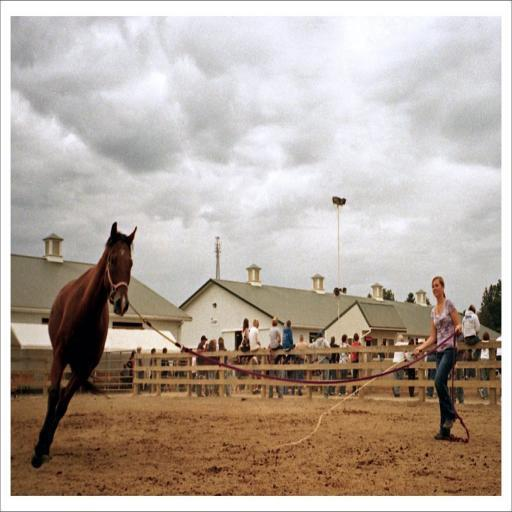horse: (30, 220, 138, 464)
